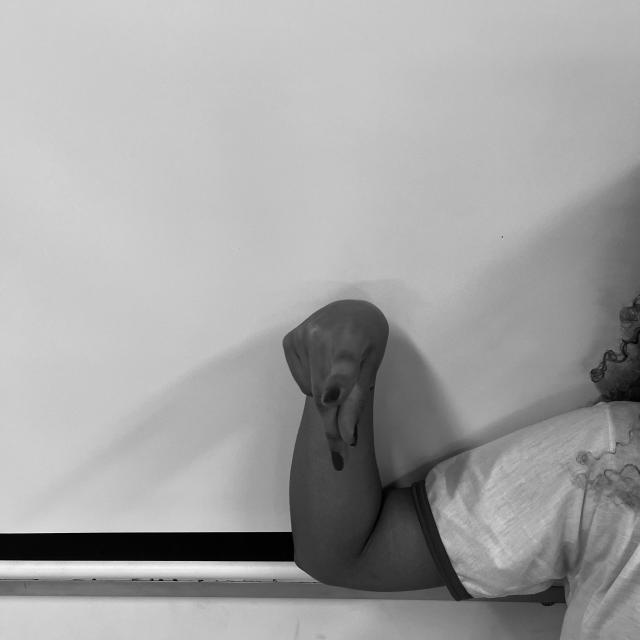Letra P: (278, 297, 395, 475)
